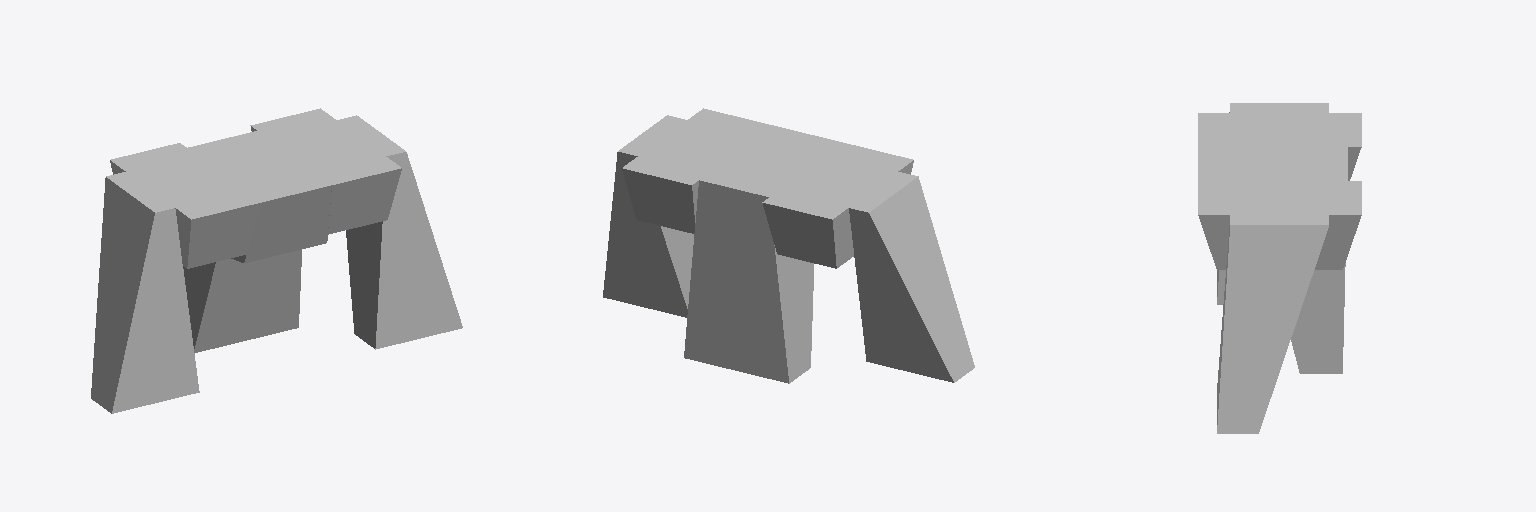
File: desk_brutalist.obj
3 renders of one model, left to right at view 1: azimuth 30°, elevation 25°; view 2: azimuth 150°, elevation 25°; view 3: azimuth 270°, elevation 25°, orthographic.
Parts seen in each view (by area): view 1: Cube; view 2: Cube; view 3: Cube.
Part boxes in pixels (left/top/right/bottom): Cube: left=91, top=108, right=462, bottom=413; Cube: left=603, top=108, right=974, bottom=383; Cube: left=1198, top=103, right=1361, bottom=433.
Size of the model in its own units: 2.32 by 1.16 by 0.9352.